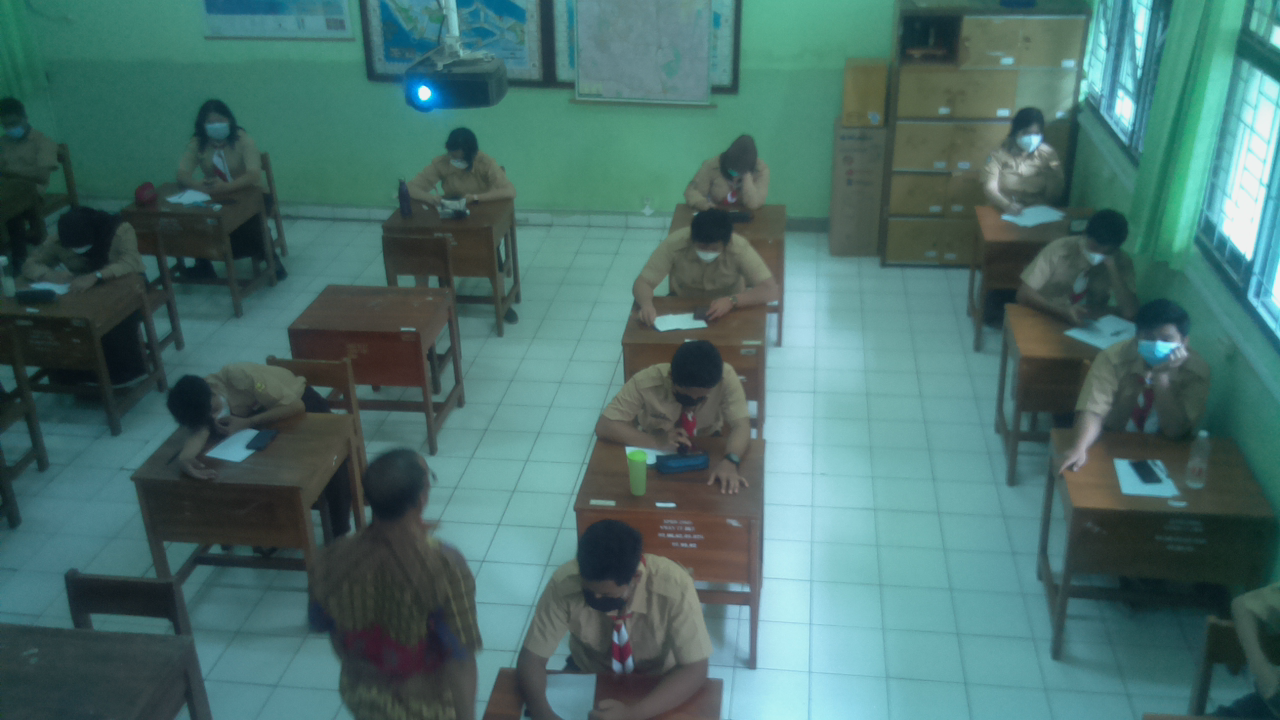Student: (315, 447, 478, 699), (531, 519, 709, 666), (1107, 301, 1209, 433), (613, 339, 747, 437), (1039, 207, 1131, 316), (659, 207, 761, 296), (171, 361, 308, 426), (991, 105, 1066, 204), (43, 207, 141, 281), (417, 127, 508, 204), (183, 99, 263, 186), (0, 91, 64, 182), (691, 135, 766, 209)
